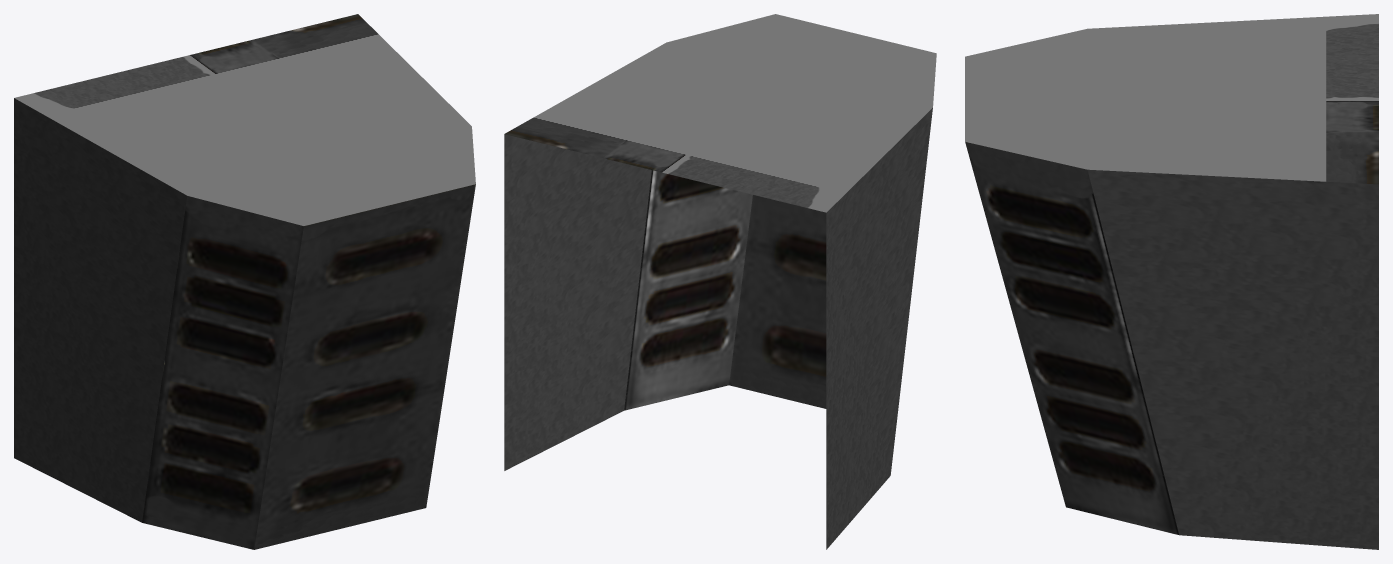
The model's file is CubeBaseFrontBackground6.fbx.
The picture shows the model from 3 angles, left to right: view 1: azimuth 30°, elevation 25°; view 2: azimuth 150°, elevation 25°; view 3: azimuth 270°, elevation 25°; orthographic projection. The views are drawn at different scales.
Parts seen in each view (by area): view 1: pCube15; view 2: pCube15; view 3: pCube15.
Boxes of the visible parts, x1,y1,x2,y2 form: pCube15: (14, 14, 475, 549); pCube15: (504, 14, 936, 549); pCube15: (965, 14, 1378, 549).
Size of the model in its own units: 1 by 1 by 1.03.
1 material, 1 textured.
